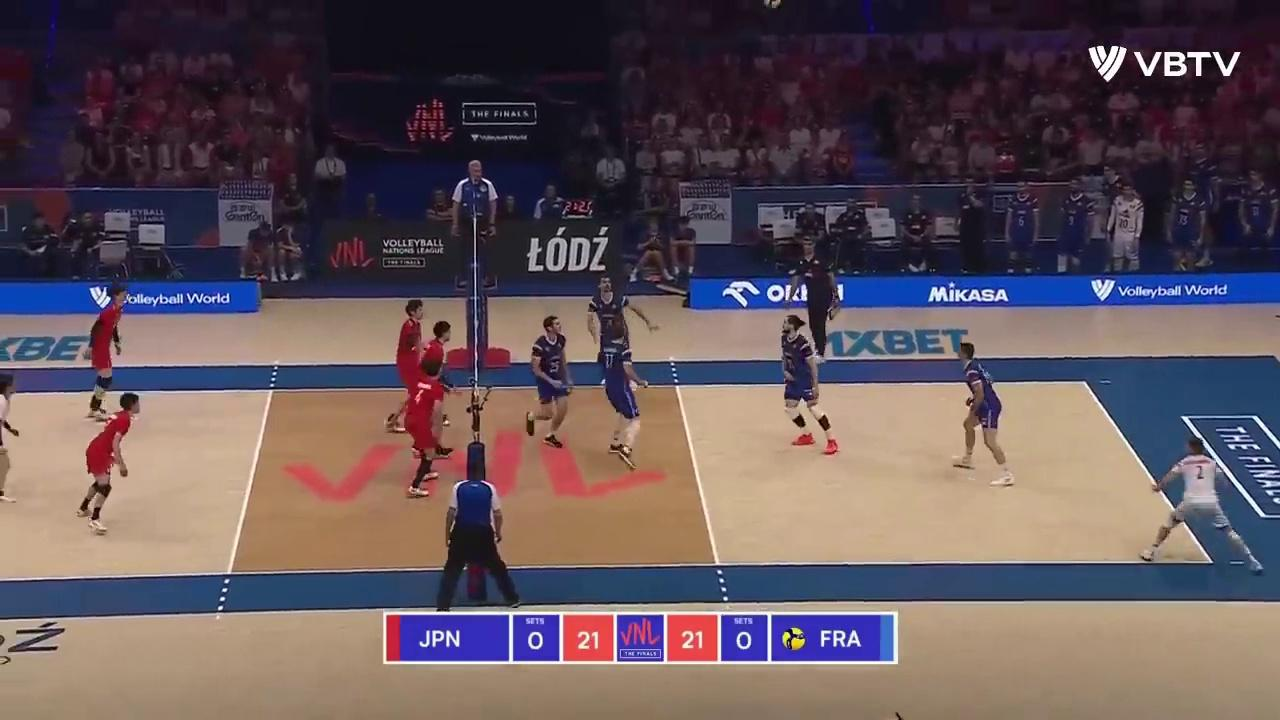ball: (763, 0, 779, 8)
